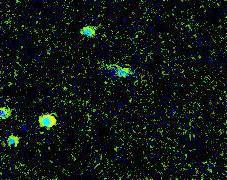star: (157, 97, 187, 127)
